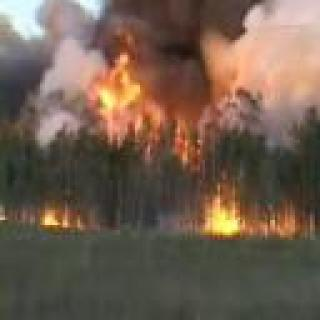fire: (94, 25, 176, 147), (206, 180, 311, 240), (37, 203, 90, 226)
